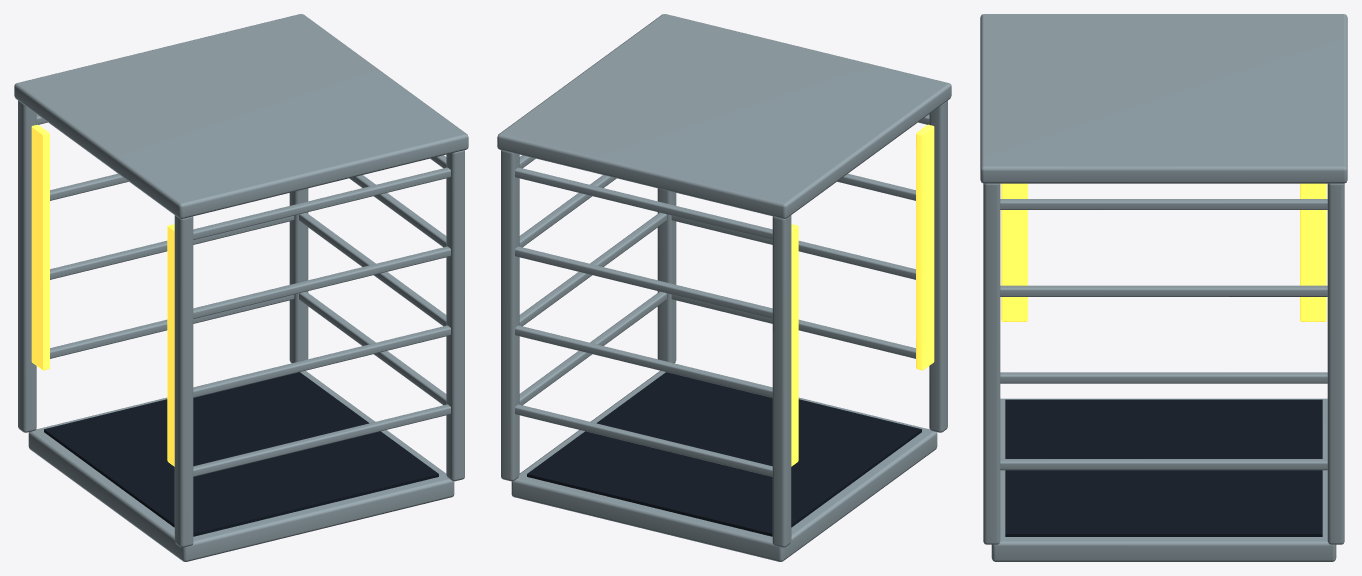
File: lift-cage.glb
The picture shows the model from 3 angles, left to right: view 1: azimuth 30°, elevation 25°; view 2: azimuth 150°, elevation 25°; view 3: azimuth 270°, elevation 25°; orthographic projection. The views are drawn at different scales.
Visible parts, largest first — view 1: Cage roof, Cage tread, Cage deck, Cage post.003, Cage post.001, Cage post.002, Cage chevron, Cage bar.004, Cage bar.006, Cage bar.005, Cage bar.007, Cage post (+7 smaller); view 2: Cage roof, Cage tread, Cage deck, Cage post.002, Cage post, Cage post.003, Cage chevron.001, Cage bar, Cage bar.002, Cage bar.001, Cage bar.003, Cage post.001 (+7 smaller); view 3: Cage roof, Cage tread, Cage deck, Cage post, Cage post.001, Cage bar.008, Cage bar.009, Cage bar.010, Cage bar.011, Cage chevron, Cage chevron.001.
Boxes of the visible parts, x1,y1,x2,y2 form: Cage roof: [14, 14, 468, 218]; Cage tread: [44, 372, 438, 536]; Cage deck: [28, 370, 454, 561]; Cage post.003: [174, 215, 193, 547]; Cage post.001: [446, 150, 464, 481]; Cage post.002: [18, 100, 36, 432]; Cage chevron: [31, 124, 49, 370]; Cage bar.004: [193, 404, 450, 476]; Cage bar.006: [193, 246, 450, 318]; Cage bar.005: [193, 325, 450, 397]; Cage bar.007: [193, 167, 450, 239]; Cage post: [289, 188, 308, 363]; Cage roof: [497, 14, 951, 218]; Cage tread: [527, 372, 921, 536]; Cage deck: [511, 370, 937, 561]; Cage post.002: [772, 215, 791, 547]; Cage post: [501, 150, 519, 481]; Cage post.003: [929, 100, 947, 432]; Cage chevron.001: [916, 124, 934, 370]; Cage bar: [515, 404, 772, 476]; Cage bar.002: [515, 246, 772, 318]; Cage bar.001: [515, 325, 772, 397]; Cage bar.003: [515, 167, 772, 239]; Cage post.001: [657, 188, 676, 363]; Cage roof: [980, 14, 1347, 183]; Cage tread: [1005, 399, 1322, 536]; Cage deck: [991, 398, 1336, 561]; Cage post: [1327, 183, 1344, 544]; Cage post.001: [983, 183, 1000, 544]; Cage bar.008: [1000, 459, 1327, 470]; Cage bar.009: [1000, 372, 1327, 383]; Cage bar.010: [1000, 285, 1327, 296]; Cage bar.011: [1000, 199, 1327, 209]; Cage chevron: [1300, 183, 1326, 321]; Cage chevron.001: [1001, 183, 1027, 321].
Size of the model in its own units: 1.92 by 2.31 by 1.92.
